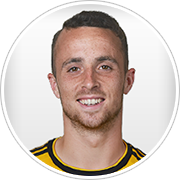smile: (75, 95, 106, 109)
